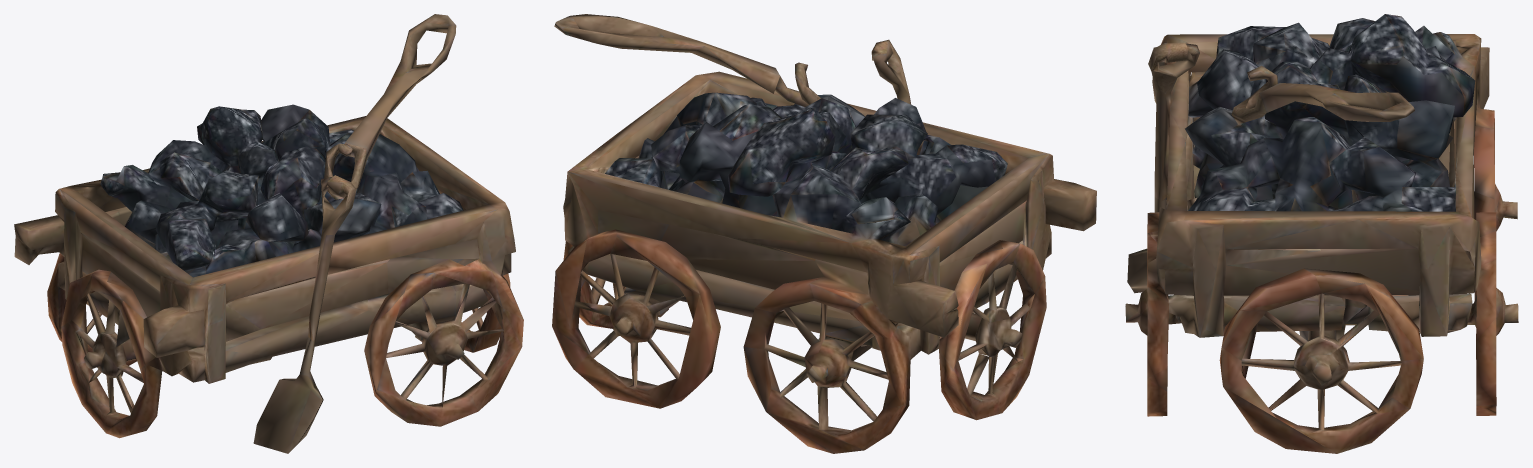
Rendered from cart.glb.
3 views of the same model, side by side, from view 1: azimuth 30°, elevation 25°; view 2: azimuth 150°, elevation 25°; view 3: azimuth 270°, elevation 25° (orthographic). The views are drawn at different scales.
Size of the model in its own units: 1.89 by 1.38 by 1.37.
Materials: 1 (1 with a texture image).
